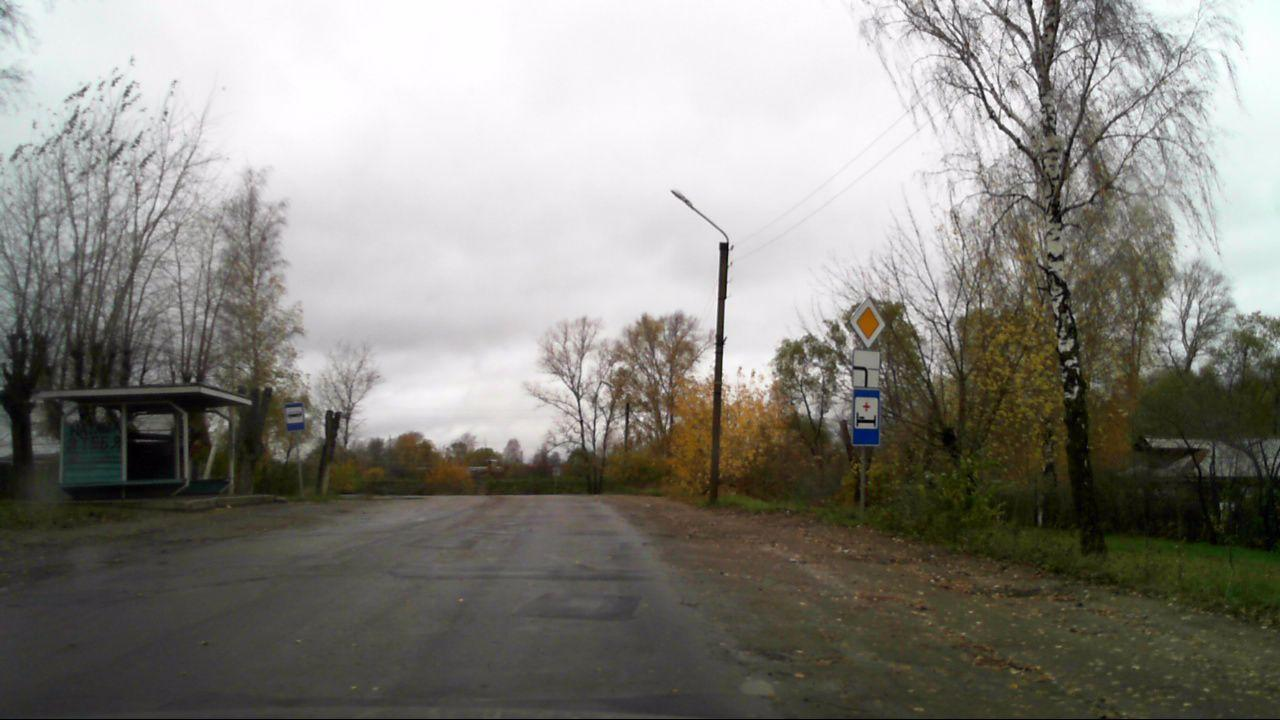2_1: (850, 295, 888, 349)
5_16: (285, 403, 306, 430)
7_2: (851, 387, 881, 444)
8_13: (853, 350, 880, 388)
